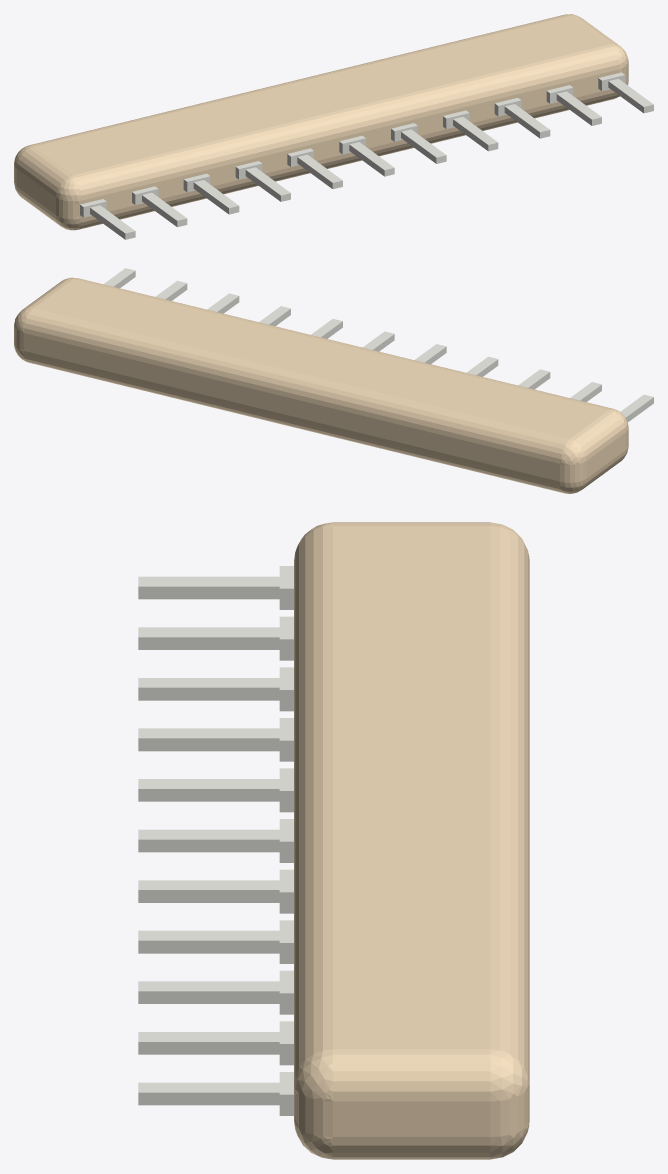
Rendered from R_Array_SIP11.glb.
3 views of the same model, one above another, from view 1: azimuth 30°, elevation 25°; view 2: azimuth 150°, elevation 25°; view 3: azimuth 270°, elevation 25° (orthographic). The views are drawn at different scales.
Visible parts, largest first — view 1: Shape_IndexedFaceSet.069, Shape_IndexedFaceSet.019, Shape_IndexedFaceSet.007, Shape_IndexedFaceSet.003, Shape_IndexedFaceSet.064, Shape_IndexedFaceSet.063, Shape_IndexedFaceSet.013, Shape_IndexedFaceSet.068, Shape_IndexedFaceSet.020, Shape_IndexedFaceSet.093, Shape_IndexedFaceSet.113, Shape_IndexedFaceSet.097 (+8 smaller); view 2: Shape_IndexedFaceSet.069, Shape_IndexedFaceSet.064, Shape_IndexedFaceSet.014, Shape_IndexedFaceSet.006, Shape_IndexedFaceSet.019, Shape_IndexedFaceSet.063, Shape_IndexedFaceSet.013, Shape_IndexedFaceSet.082, Shape_IndexedFaceSet.062; view 3: Shape_IndexedFaceSet.069, Shape_IndexedFaceSet.064, Shape_IndexedFaceSet.019, Shape_IndexedFaceSet.061, Shape_IndexedFaceSet.011, Shape_IndexedFaceSet.004, Shape_IndexedFaceSet.084, Shape_IndexedFaceSet.088, Shape_IndexedFaceSet.096, Shape_IndexedFaceSet.104, Shape_IndexedFaceSet.112, Shape_IndexedFaceSet.124 (+20 smaller).
Boxes of the visible parts, x1,y1,x2,y2 form: Shape_IndexedFaceSet.069: (34, 16, 608, 175); Shape_IndexedFaceSet.019: (73, 44, 618, 200); Shape_IndexedFaceSet.007: (82, 69, 618, 217); Shape_IndexedFaceSet.003: (78, 89, 617, 229); Shape_IndexedFaceSet.064: (30, 14, 569, 146); Shape_IndexedFaceSet.063: (16, 146, 72, 196); Shape_IndexedFaceSet.013: (16, 169, 55, 214); Shape_IndexedFaceSet.068: (56, 175, 82, 201); Shape_IndexedFaceSet.020: (56, 197, 82, 219); Shape_IndexedFaceSet.093: (401, 129, 446, 157); Shape_IndexedFaceSet.113: (246, 167, 290, 195); Shape_IndexedFaceSet.097: (453, 117, 497, 144); Shape_IndexedFaceSet.069: (34, 279, 608, 438); Shape_IndexedFaceSet.064: (24, 308, 569, 463); Shape_IndexedFaceSet.014: (23, 333, 559, 481); Shape_IndexedFaceSet.006: (24, 351, 563, 492); Shape_IndexedFaceSet.019: (73, 278, 613, 409); Shape_IndexedFaceSet.063: (570, 410, 625, 460); Shape_IndexedFaceSet.013: (587, 432, 625, 478); Shape_IndexedFaceSet.082: (560, 439, 586, 464); Shape_IndexedFaceSet.062: (560, 461, 586, 482); Shape_IndexedFaceSet.069: (333, 526, 490, 1049); Shape_IndexedFaceSet.064: (490, 526, 529, 1082); Shape_IndexedFaceSet.019: (294, 526, 332, 1082); Shape_IndexedFaceSet.061: (333, 1049, 490, 1101); Shape_IndexedFaceSet.011: (333, 1101, 490, 1136); Shape_IndexedFaceSet.004: (333, 1137, 490, 1159); Shape_IndexedFaceSet.084: (138, 1092, 279, 1105); Shape_IndexedFaceSet.088: (138, 586, 279, 599); Shape_IndexedFaceSet.096: (138, 940, 279, 953); Shape_IndexedFaceSet.104: (138, 839, 279, 852); Shape_IndexedFaceSet.112: (138, 738, 279, 751); Shape_IndexedFaceSet.124: (138, 687, 279, 700).
Size of the model in its own units: 11 by 0.988 by 3.27.
